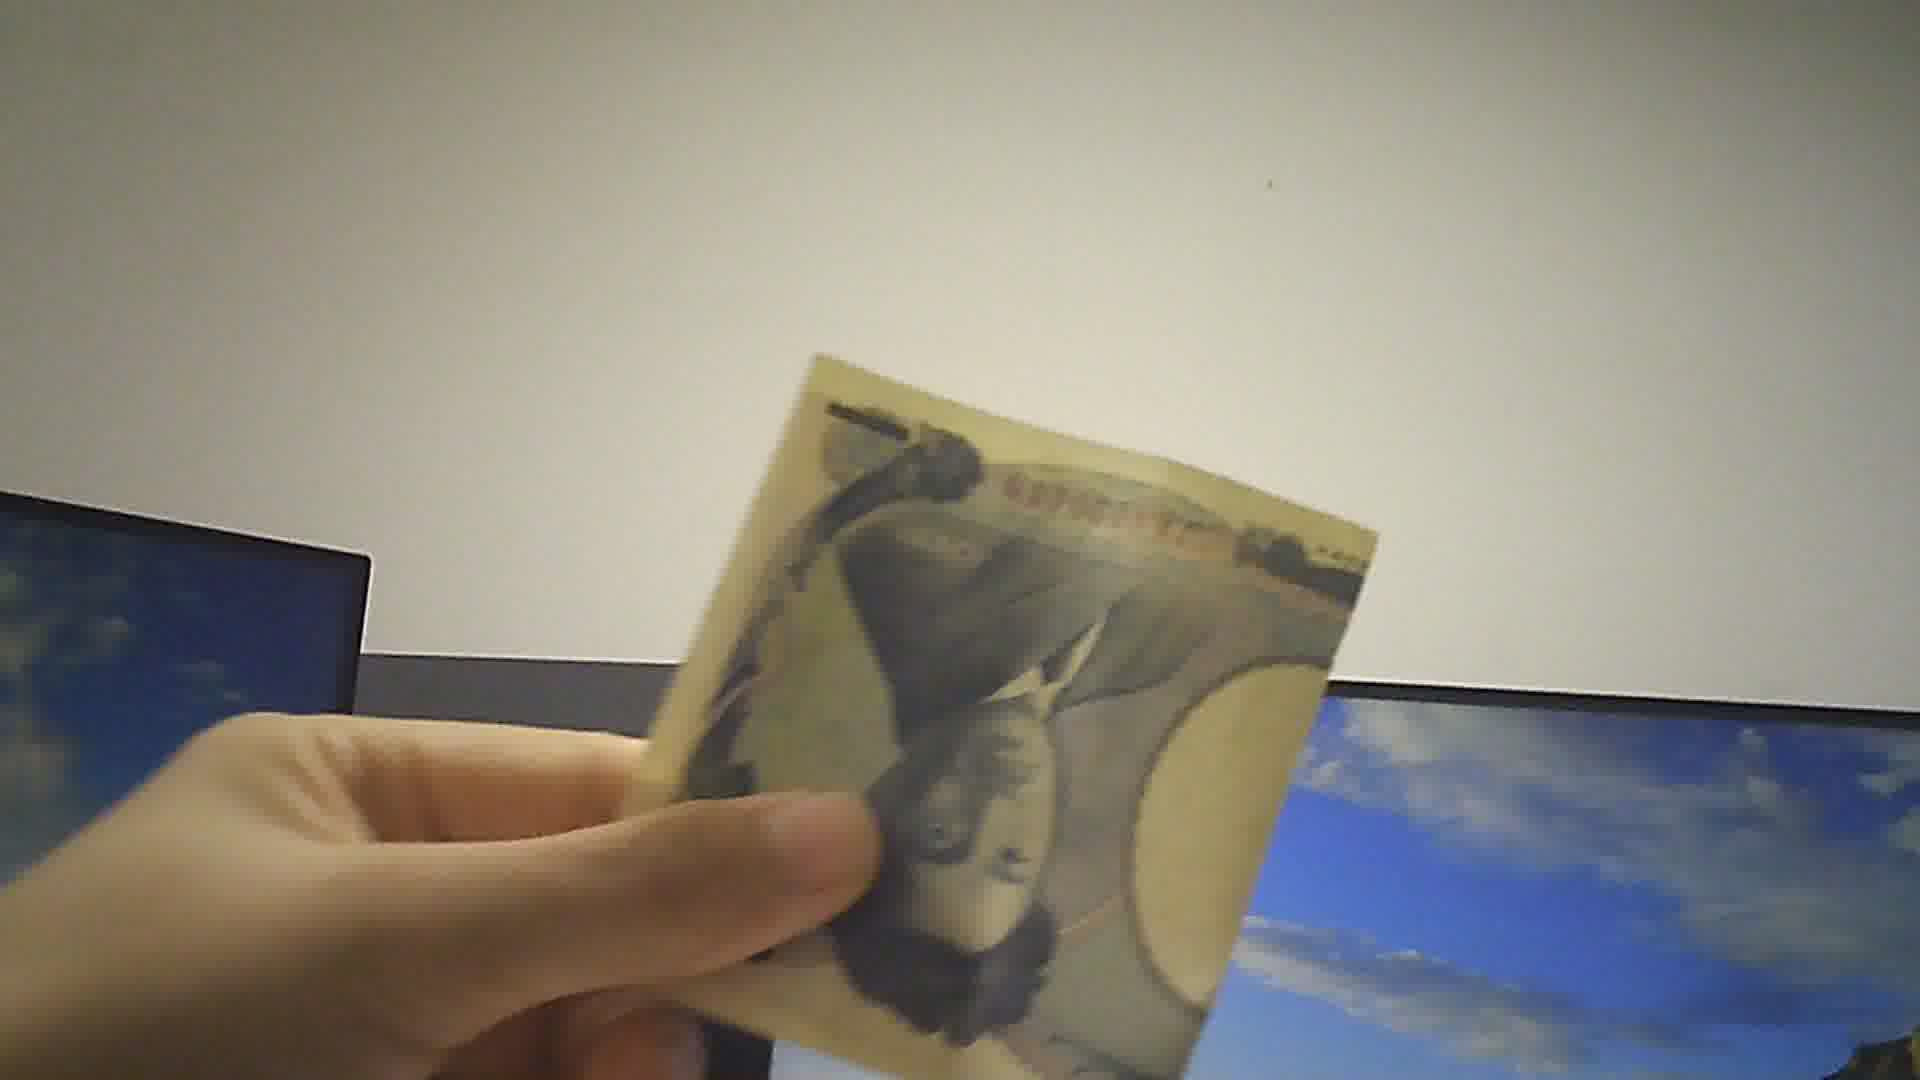1,000 Yen: (593, 326, 1389, 1075)
